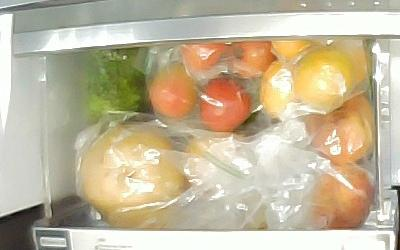peach_vinyl: (306, 91, 373, 164), (307, 163, 373, 229)
pear_vinyl: (81, 122, 182, 230), (184, 131, 242, 183)
tangerine_vinyl: (293, 50, 350, 105), (260, 61, 294, 119), (270, 39, 307, 58)
tomato_vinyl: (200, 76, 250, 133), (148, 61, 196, 117), (229, 40, 275, 79), (180, 42, 226, 69)
